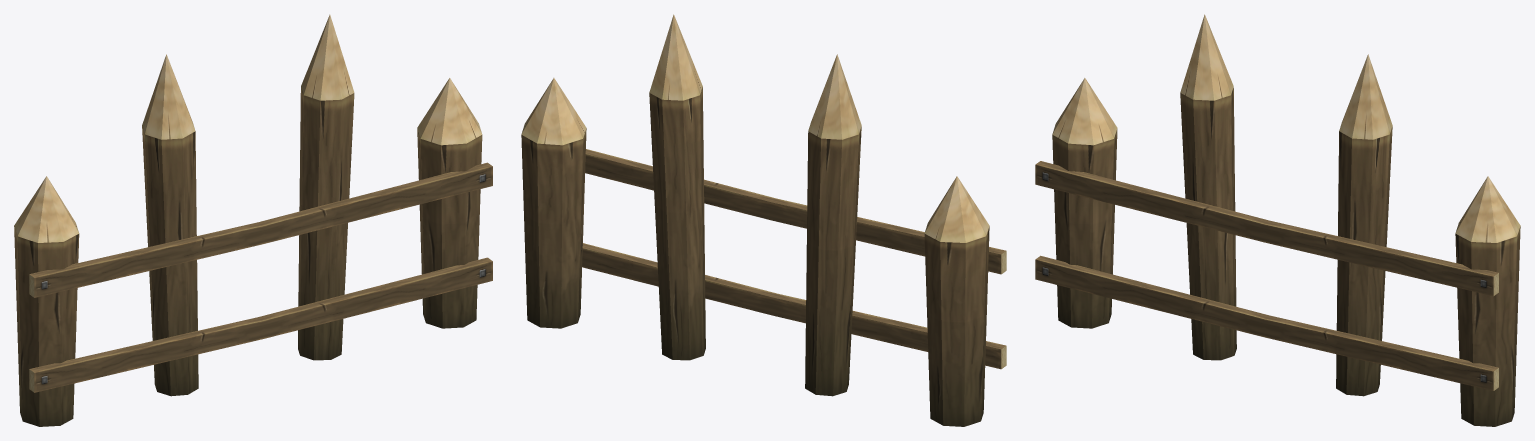
File: wooden_fence_44.fbx
3 renders of one model, left to right at view 1: azimuth 30°, elevation 25°; view 2: azimuth 150°, elevation 25°; view 3: azimuth 330°, elevation 25°, orthographic.
Parts seen in each view (by area): view 1: wooden_fence_44:Mesh; view 2: wooden_fence_44:Mesh; view 3: wooden_fence_44:Mesh.
Part boxes in pixels (x1,y1,x2,y2): wooden_fence_44:Mesh: (14,14,492,426); wooden_fence_44:Mesh: (521,14,1006,426); wooden_fence_44:Mesh: (1035,14,1520,426).
Size of the model in its own units: 7.31 by 5.07 by 0.9713.
